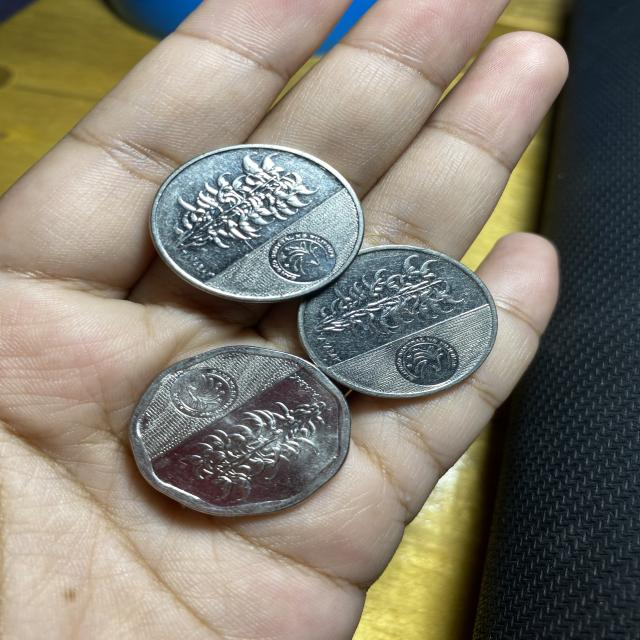5_New_Back: (288, 260, 473, 336), (177, 156, 311, 252)
